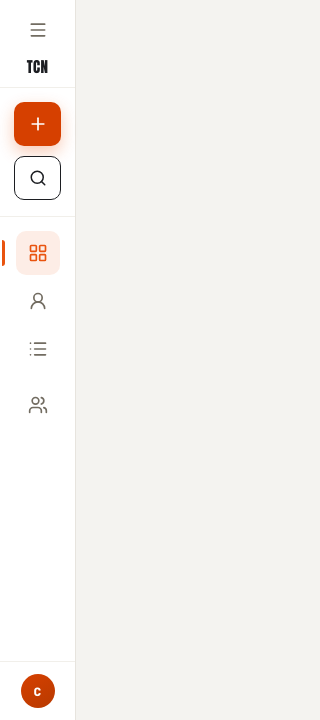
Test: AppNav — arborescence › n'annonce pas les fournisseurs à un connecté sans le pouvoir (#239)
The width and height of the screenshot is (320, 720).
Click the button named "Déplier la navigation".
click(38, 30)  # box [16, 8, 60, 52]
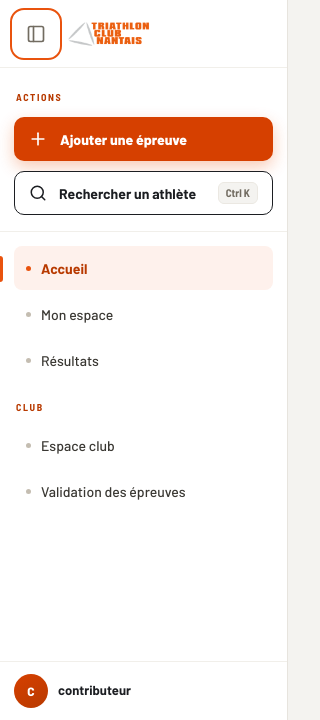
Expected: the text "Résultats" is shown, [41, 352, 99, 368]
